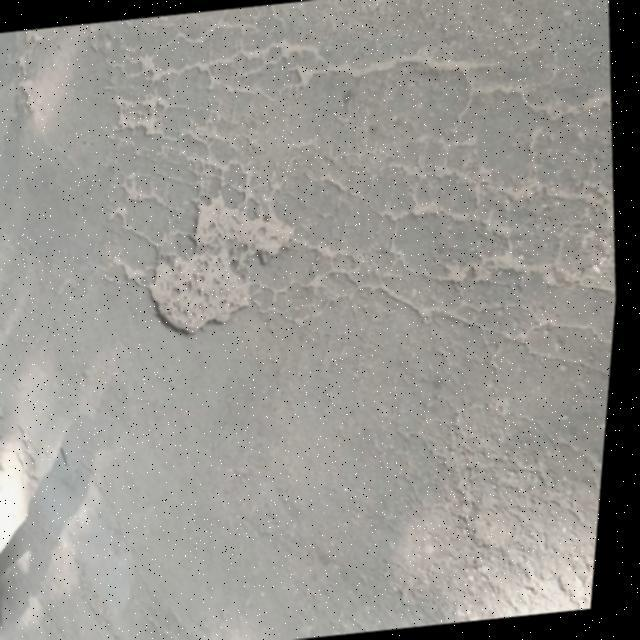pothole: (136, 181, 312, 340)
